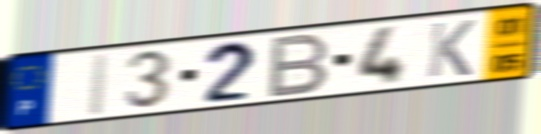2: (197, 36, 263, 109)
3: (122, 47, 176, 112)
4: (354, 23, 411, 87)
B: (264, 30, 333, 101)
I: (83, 50, 114, 119)
K: (425, 18, 478, 80)
